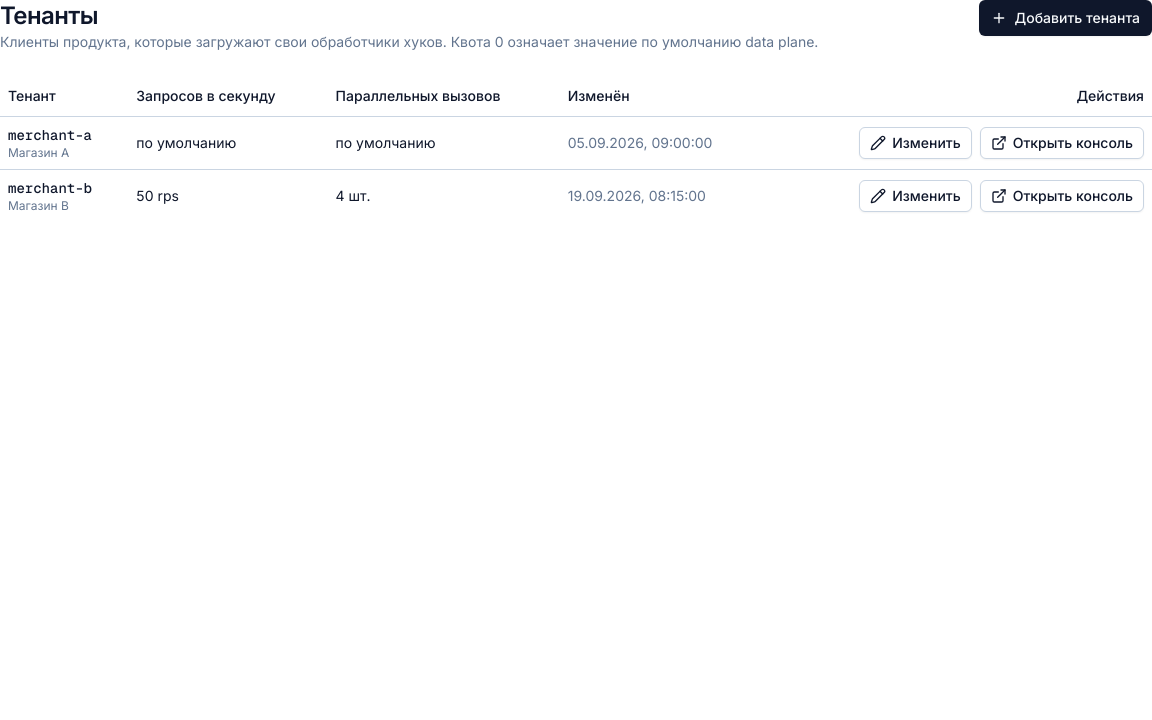
it: OperatorTenantsPage › sends only the changed fields
Click the button with aria-label "Изменить merchant-b". click: x=915, y=196
box: [859,180,972,212]
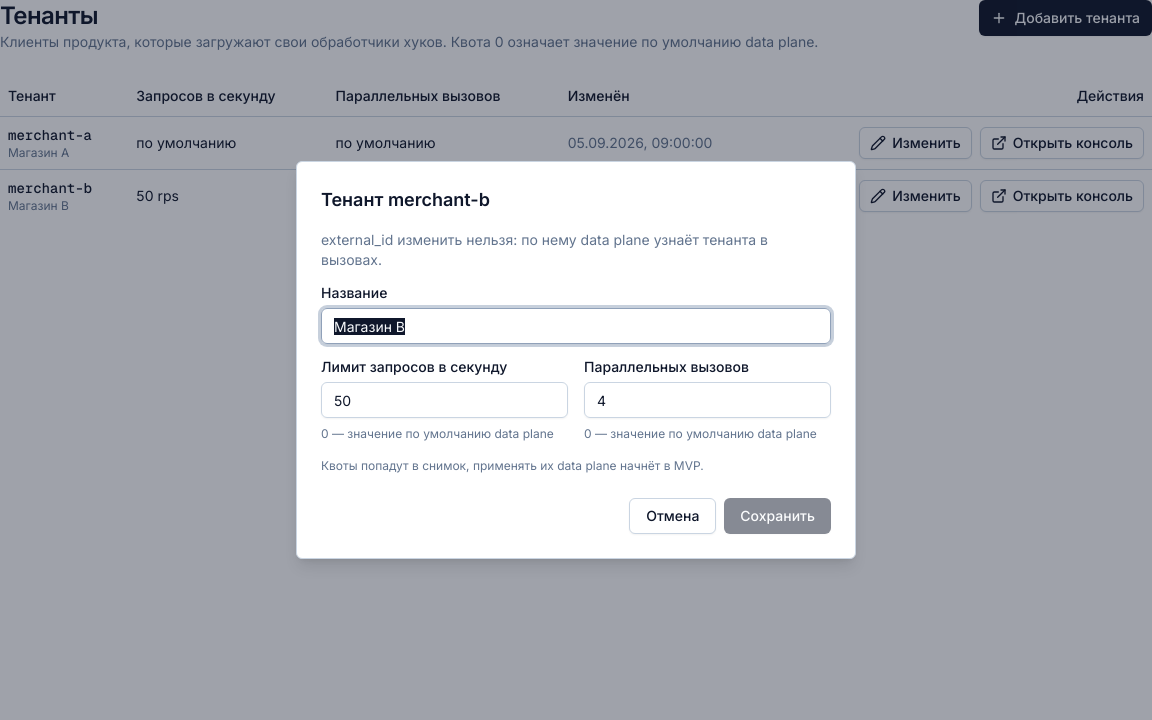
Expected: the button "Сохранить" is disabled, [724,498,831,534]
Replace the text in the number field labelled "Лимит запросов в секунду" with "0". click: x=444, y=400
box: [321,382,568,418]
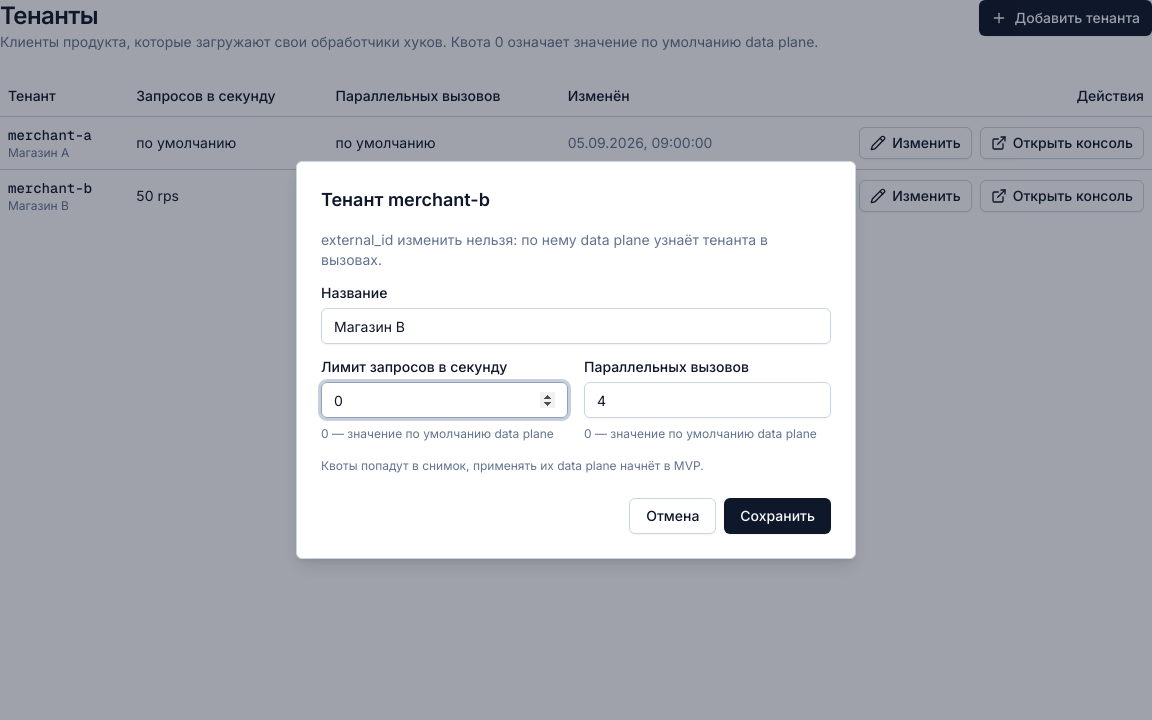
Click the button "Сохранить". click: x=778, y=516
box: [724,498,831,534]
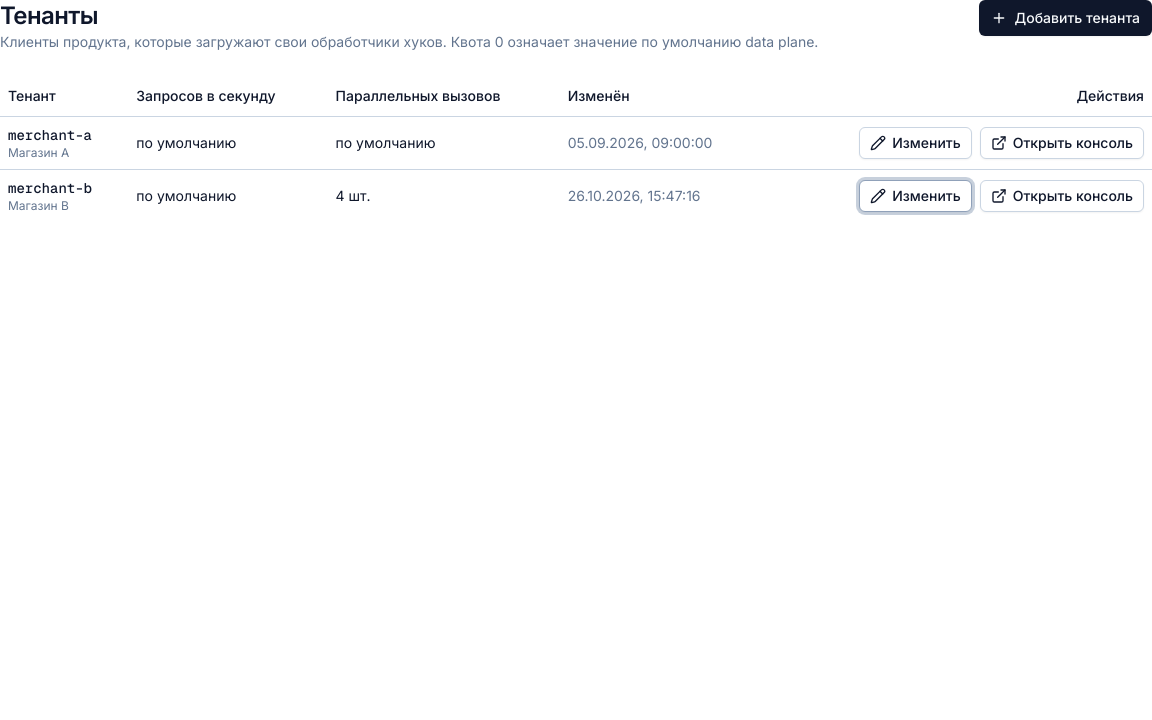
Expected: the dialog is gone
Expected: the text "по умолчанию" next to "merchant-b" is shown, [136,186,236,204]
